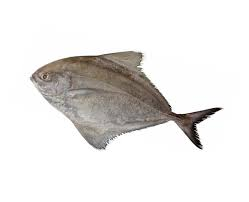Ikan Bawal: (19, 47, 227, 156)
